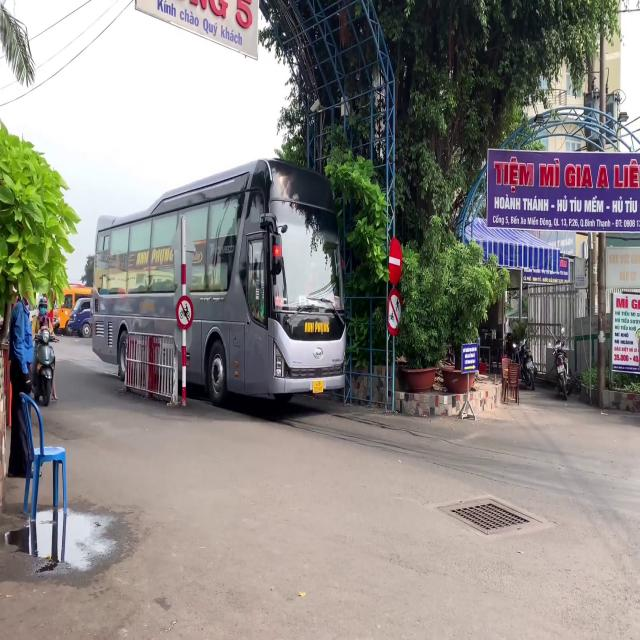bien_vang: (313, 379, 324, 392)
